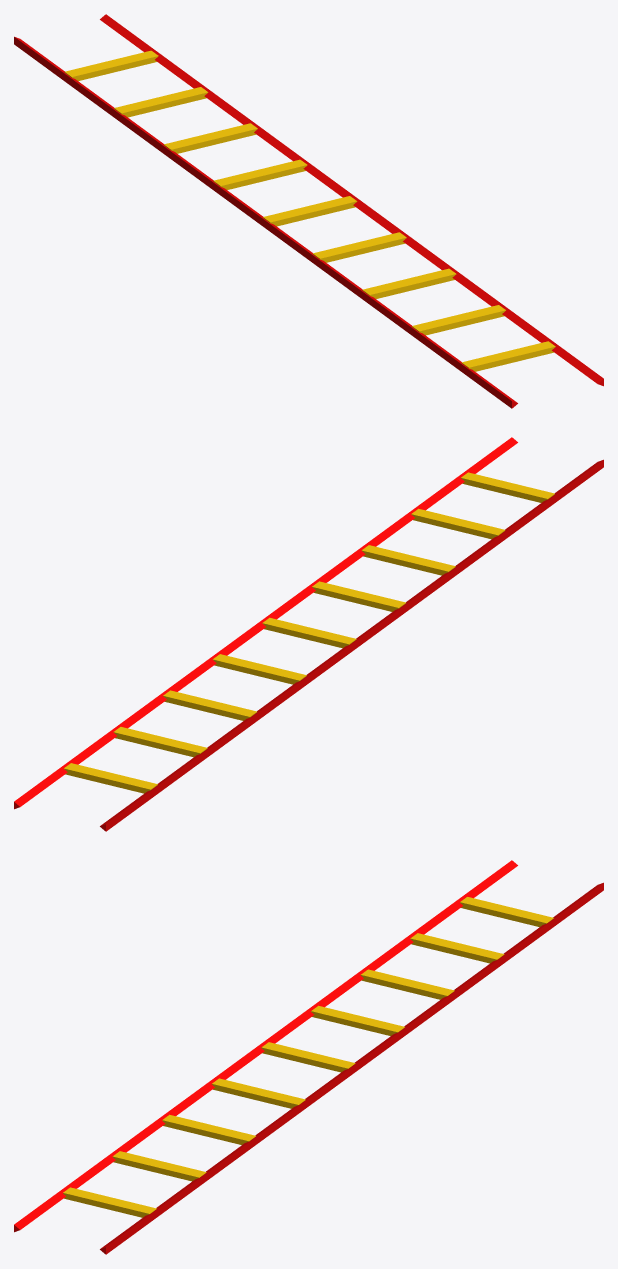
The model's file is equipment_0004_ladder.glb.
3 renders of one model, top to bottom at view 1: azimuth 30°, elevation 25°; view 2: azimuth 150°, elevation 25°; view 3: azimuth 330°, elevation 25°, orthographic.
Parts seen in each view (by area): view 1: steps, ropes; view 2: steps, ropes; view 3: steps, ropes.
Boxes of the visible parts, x1,y1,x2,y2 form: steps: [64, 50, 555, 371]; ropes: [14, 14, 603, 408]; steps: [64, 472, 554, 793]; ropes: [14, 437, 603, 831]; steps: [63, 897, 553, 1217]; ropes: [14, 860, 603, 1254].
Size of what is drawn, in the model's own units: 40.45 by 3.26 by 379.
